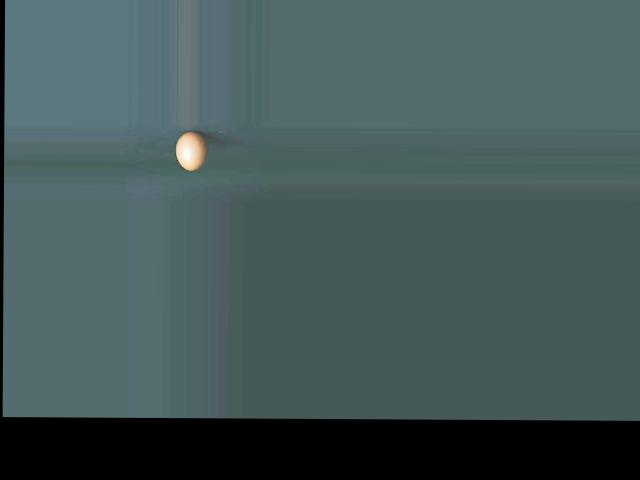egg: (176, 131, 206, 170)
